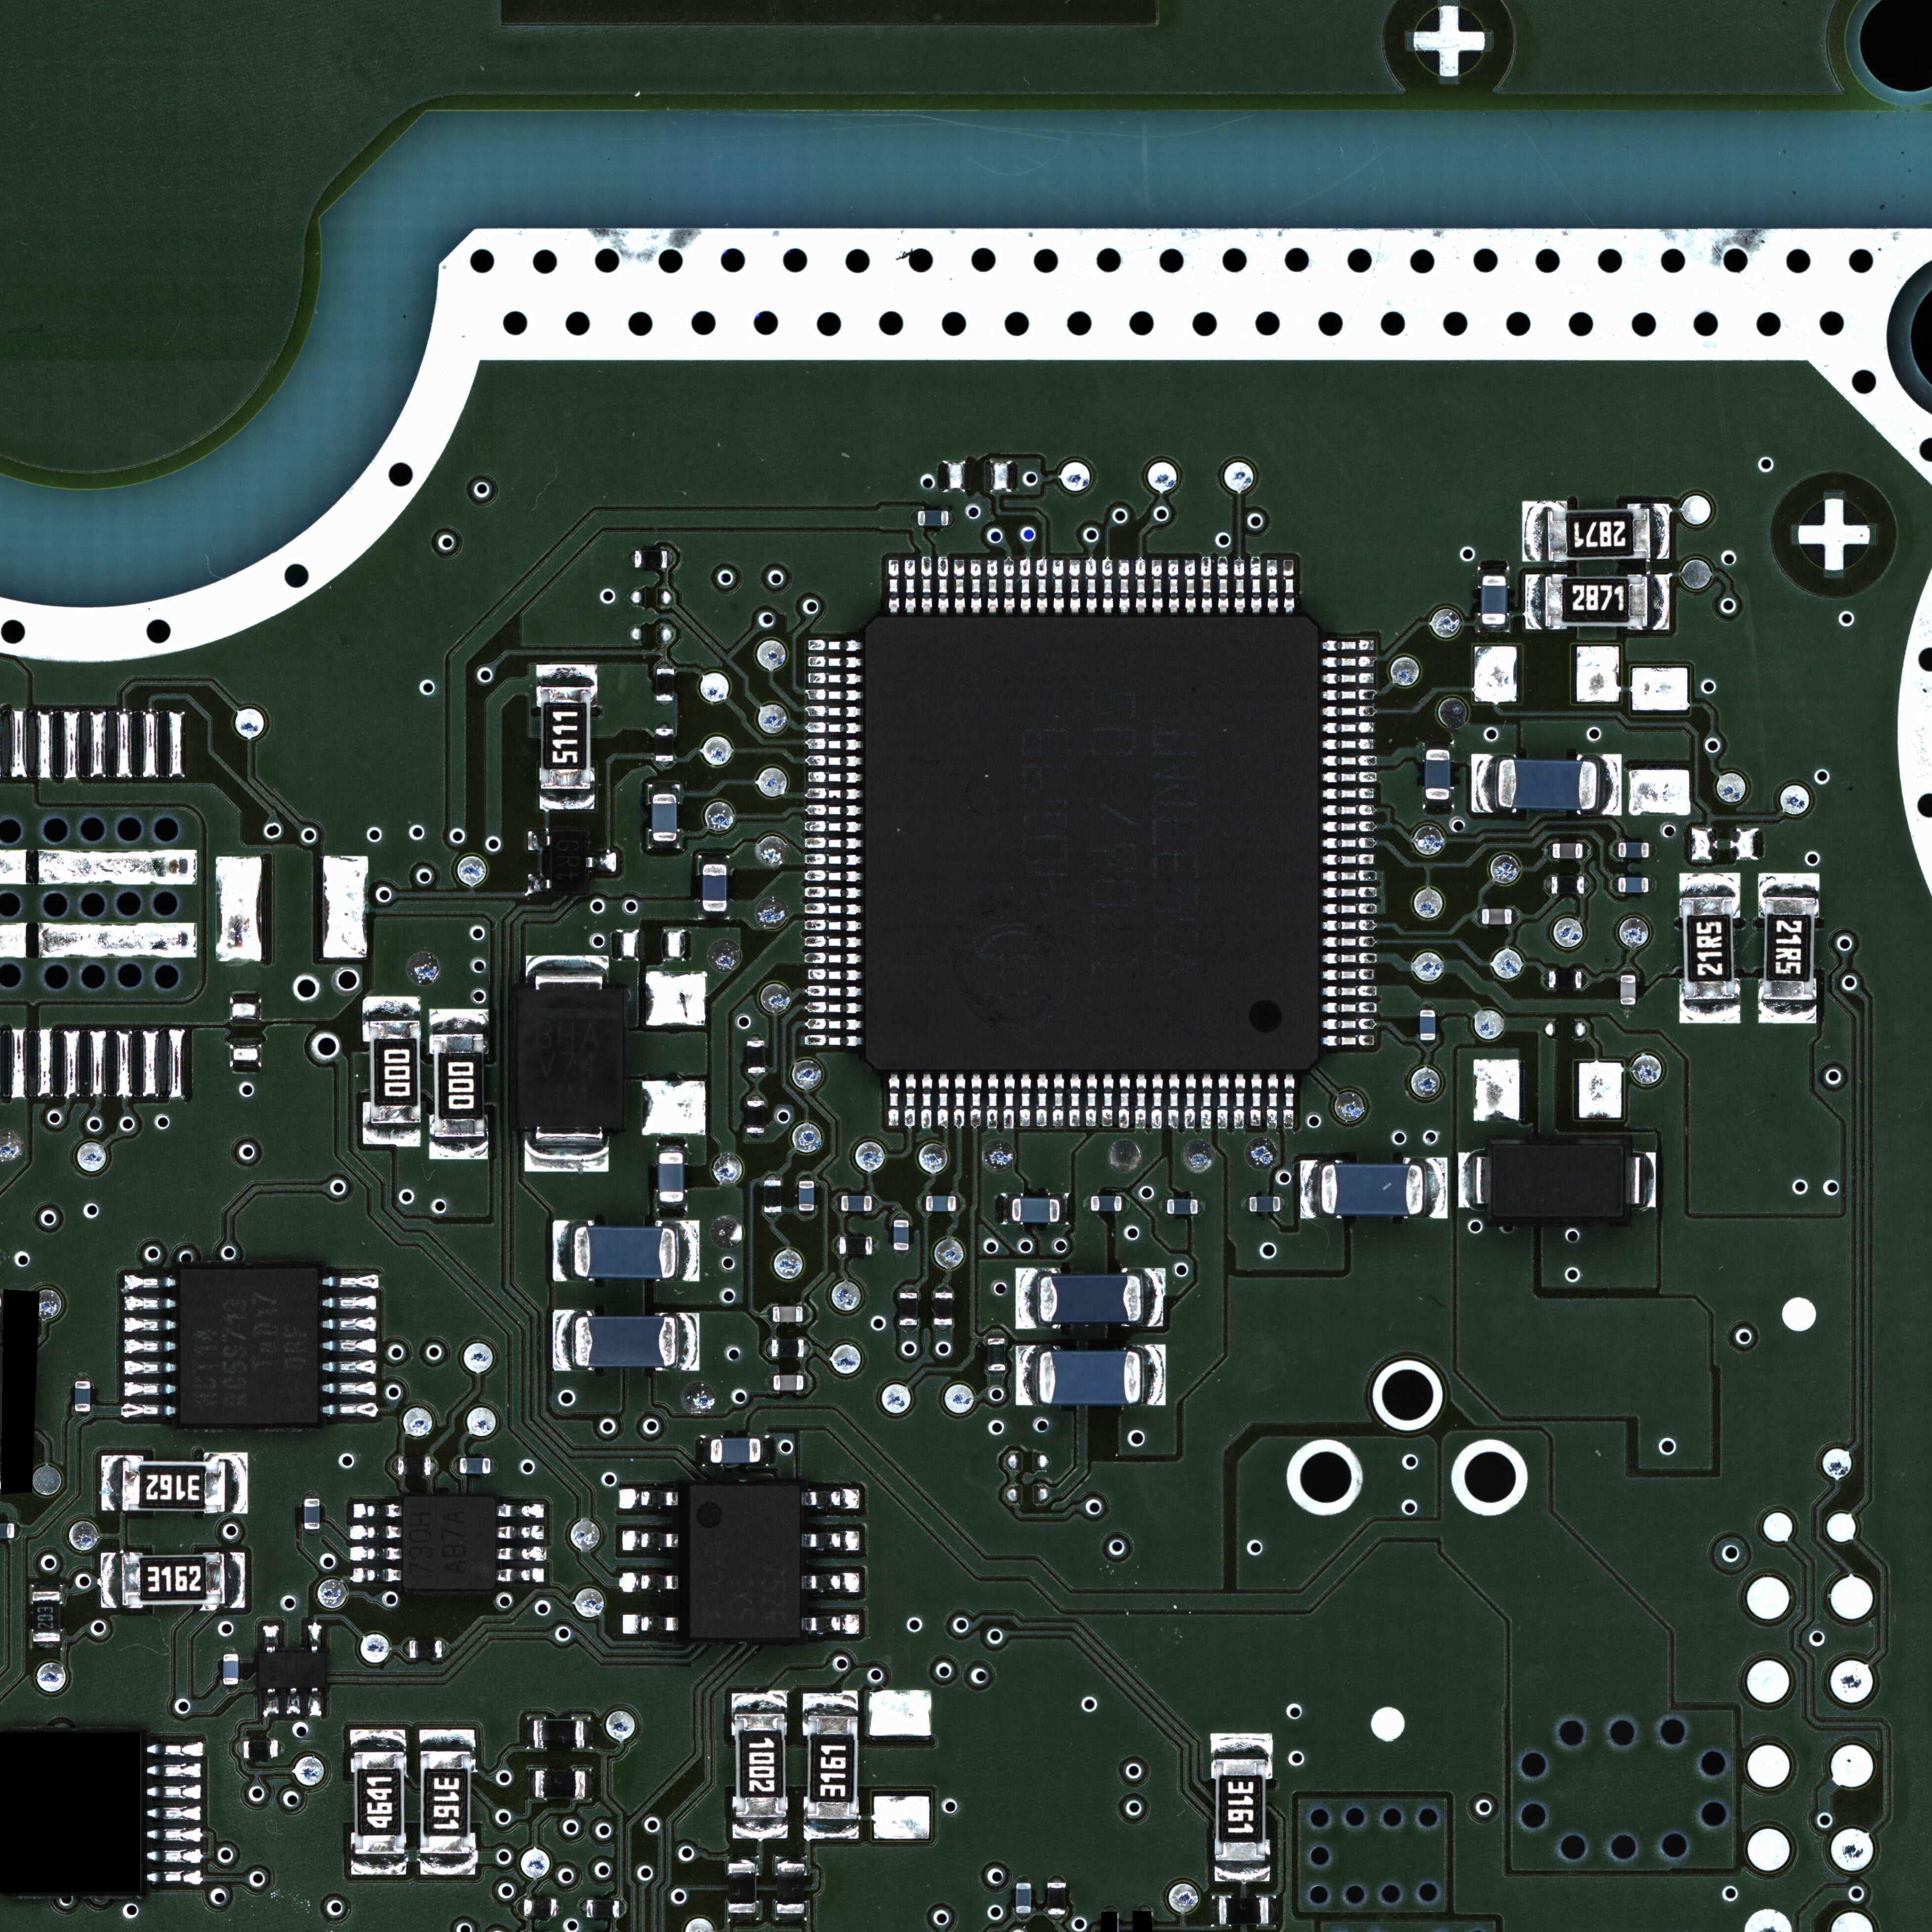Package: (863, 614, 1321, 1073), (178, 1268, 318, 1424), (688, 1485, 801, 1638), (517, 990, 625, 1126), (1491, 1143, 1622, 1218), (402, 1495, 496, 1590), (732, 1715, 786, 1818), (1213, 1759, 1267, 1862), (432, 1034, 486, 1136), (539, 685, 592, 789), (1548, 506, 1651, 559), (1683, 897, 1736, 999), (1764, 897, 1817, 999), (421, 1751, 473, 1854), (368, 1021, 421, 1123), (806, 1716, 858, 1819), (1038, 1351, 1140, 1403), (1545, 576, 1647, 627), (1321, 1163, 1424, 1214), (354, 1752, 405, 1854), (122, 1555, 225, 1605), (574, 1227, 675, 1278), (123, 1460, 224, 1511), (1498, 759, 1597, 810), (576, 1316, 674, 1367), (1039, 1274, 1141, 1322), (258, 1652, 326, 1688), (551, 830, 588, 890), (533, 1720, 583, 1748), (727, 1862, 756, 1913), (1219, 1897, 1268, 1925), (33, 1592, 60, 1642), (535, 1770, 584, 1798), (777, 1863, 804, 1913), (711, 1438, 760, 1463), (1425, 750, 1450, 799), (659, 1153, 683, 1202), (1482, 576, 1505, 624), (702, 864, 726, 911), (1013, 1198, 1059, 1222), (652, 794, 676, 841), (654, 729, 674, 762), (747, 1040, 766, 1073), (397, 1457, 431, 1475), (586, 1900, 620, 1918), (746, 1101, 765, 1133), (1048, 1882, 1066, 1914), (772, 1339, 804, 1357), (1548, 971, 1581, 989), (934, 1293, 952, 1325), (987, 1338, 1005, 1371), (1551, 876, 1584, 894), (410, 1641, 442, 1658), (900, 1293, 918, 1325), (635, 550, 667, 568), (524, 1899, 556, 1916), (839, 1237, 871, 1255), (764, 1180, 781, 1213), (657, 669, 674, 701), (460, 1458, 490, 1474), (1091, 1196, 1122, 1211), (223, 1654, 238, 1685), (1620, 975, 1636, 1005), (1482, 909, 1512, 924), (1420, 1010, 1436, 1040), (1016, 1883, 1031, 1913), (773, 1306, 803, 1322), (841, 1196, 872, 1211), (926, 1196, 956, 1211), (1618, 842, 1649, 857), (1250, 1197, 1280, 1211), (799, 1181, 814, 1211), (1553, 843, 1583, 859), (1167, 1199, 1198, 1214), (894, 1220, 909, 1250), (1618, 877, 1648, 892), (304, 1499, 319, 1529), (773, 1375, 804, 1390), (75, 1381, 90, 1411), (918, 511, 948, 526)
Solder: (525, 1126, 610, 1172), (526, 956, 609, 991), (1623, 1153, 1656, 1207), (1458, 1152, 1490, 1209), (1210, 1733, 1274, 1759), (1140, 1345, 1166, 1405), (1471, 754, 1497, 813), (1679, 999, 1741, 1024), (1597, 753, 1622, 816), (1758, 872, 1820, 897), (1424, 1157, 1448, 1219), (1679, 873, 1740, 897), (224, 1452, 247, 1513), (1757, 1000, 1817, 1023), (1015, 1267, 1038, 1329), (1523, 502, 1546, 561), (430, 1010, 488, 1033), (1141, 1267, 1164, 1327), (536, 664, 597, 685), (802, 1693, 859, 1717), (363, 996, 420, 1019), (1016, 1346, 1037, 1405), (802, 1571, 860, 1593), (620, 1488, 677, 1509), (678, 1221, 699, 1281), (101, 1455, 123, 1511), (350, 1730, 406, 1751), (731, 1693, 788, 1714), (677, 1313, 698, 1370), (619, 1573, 678, 1593), (554, 1310, 574, 1370), (351, 1854, 406, 1875), (419, 1730, 475, 1751), (732, 1818, 788, 1838), (1301, 1160, 1320, 1219), (553, 1221, 573, 1281), (420, 1854, 476, 1875), (1648, 575, 1669, 630), (101, 1553, 122, 1608), (623, 1614, 678, 1634), (430, 1139, 487, 1159), (363, 1125, 420, 1145), (803, 1531, 859, 1551), (539, 789, 595, 809), (803, 1614, 859, 1634), (622, 1531, 678, 1550), (803, 1489, 859, 1508), (803, 1819, 859, 1838), (1215, 1862, 1270, 1882), (226, 1553, 245, 1607), (1526, 575, 1544, 629), (1652, 504, 1669, 558), (351, 1524, 401, 1540), (147, 1763, 203, 1778), (146, 1806, 202, 1820), (352, 1546, 402, 1561), (353, 1502, 401, 1518), (805, 820, 861, 834), (806, 787, 862, 801), (147, 1742, 203, 1756), (146, 1785, 202, 1799), (146, 1849, 202, 1863), (124, 1275, 175, 1290), (806, 804, 861, 818), (323, 1274, 378, 1288), (147, 1828, 203, 1841), (146, 1870, 202, 1884), (323, 1338, 376, 1352), (122, 1403, 175, 1417), (352, 1567, 402, 1583), (322, 1402, 377, 1416), (807, 985, 862, 999), (808, 638, 862, 652), (323, 1381, 377, 1395), (805, 903, 861, 916), (805, 886, 861, 900), (805, 919, 861, 932), (805, 837, 861, 850), (805, 853, 861, 867), (806, 721, 862, 734), (806, 738, 862, 751), (497, 1546, 546, 1561), (1322, 638, 1375, 652), (806, 1034, 862, 1047), (805, 952, 862, 965), (124, 1360, 175, 1375), (124, 1296, 175, 1310), (124, 1382, 175, 1396), (808, 1002, 862, 1015), (808, 655, 862, 669), (806, 705, 862, 718), (1250, 558, 1262, 614), (806, 935, 862, 948), (805, 870, 861, 883), (125, 1317, 175, 1332), (125, 1339, 175, 1353), (808, 672, 862, 685), (323, 1360, 376, 1373), (497, 1525, 544, 1540), (1322, 919, 1375, 932), (1266, 559, 1279, 614), (807, 689, 862, 702), (807, 755, 862, 768), (497, 1503, 544, 1518), (920, 557, 933, 614), (1217, 557, 1229, 614), (1323, 935, 1375, 949), (807, 969, 862, 982), (807, 771, 862, 784), (1233, 558, 1246, 614), (1322, 672, 1374, 685), (1322, 985, 1376, 998), (323, 1317, 377, 1330), (497, 1568, 544, 1583), (8, 1299, 23, 1345), (953, 559, 966, 615), (937, 557, 949, 615), (1323, 903, 1376, 916), (1321, 655, 1374, 668), (1323, 755, 1376, 768), (1322, 1018, 1375, 1031), (1323, 721, 1374, 734), (904, 559, 917, 614), (807, 1018, 862, 1031), (1052, 559, 1064, 614), (1201, 557, 1212, 614), (1322, 968, 1375, 981), (1322, 1034, 1374, 1047), (1322, 688, 1375, 701), (1323, 837, 1375, 850), (1322, 1002, 1376, 1014), (8, 1441, 22, 1489), (1003, 559, 1015, 615), (1019, 559, 1031, 615), (1323, 705, 1374, 718), (1322, 738, 1374, 751), (1323, 787, 1374, 800), (1323, 854, 1374, 867), (1323, 886, 1376, 899), (1323, 772, 1376, 784), (1184, 559, 1196, 614), (1102, 559, 1114, 614), (1135, 559, 1147, 614), (323, 1297, 376, 1309), (1323, 953, 1376, 965), (1085, 559, 1097, 614), (1151, 559, 1163, 614), (1167, 559, 1179, 614), (987, 559, 999, 614), (1069, 559, 1081, 614), (1323, 870, 1375, 883), (1283, 560, 1295, 614), (1323, 821, 1375, 833), (1323, 804, 1374, 817), (1036, 559, 1048, 615), (921, 1074, 933, 1127), (1201, 1074, 1212, 1129), (1185, 1074, 1196, 1129), (1102, 1074, 1114, 1127), (970, 559, 982, 614), (1135, 1074, 1147, 1129), (1004, 1074, 1015, 1129), (1053, 1074, 1064, 1126), (888, 559, 900, 614), (1119, 560, 1130, 614), (1119, 1074, 1130, 1128), (954, 1074, 966, 1128), (905, 1074, 916, 1127), (938, 1074, 949, 1127), (1168, 1074, 1179, 1129), (1036, 1073, 1048, 1126), (1218, 1074, 1229, 1129), (1234, 1074, 1245, 1129), (987, 1074, 998, 1129), (1086, 1074, 1097, 1126), (1069, 1074, 1081, 1126), (970, 1074, 981, 1128), (1283, 1074, 1294, 1127), (1251, 1074, 1261, 1127), (1152, 1074, 1162, 1130), (888, 1074, 899, 1127), (1267, 1074, 1278, 1127), (588, 854, 620, 871), (1020, 1074, 1031, 1126), (526, 831, 551, 850), (263, 1623, 279, 1652), (263, 1688, 279, 1716), (527, 874, 551, 892), (308, 1687, 322, 1716), (286, 1687, 300, 1715), (308, 1622, 321, 1652), (761, 1436, 772, 1466), (700, 1436, 710, 1465), (650, 784, 680, 794), (1210, 1895, 1219, 1926), (1003, 1195, 1012, 1224), (583, 1718, 592, 1748), (525, 1717, 533, 1748), (647, 841, 679, 849), (1269, 1896, 1277, 1926), (1059, 1195, 1067, 1223), (1425, 741, 1453, 749), (699, 856, 729, 864), (698, 912, 729, 919), (776, 1913, 806, 1921), (32, 1584, 62, 1592), (584, 1769, 592, 1799), (528, 1769, 535, 1799), (1425, 800, 1452, 808), (658, 1145, 685, 1153), (774, 1856, 805, 1863), (1479, 625, 1508, 632), (657, 1203, 685, 1210), (728, 1856, 758, 1863), (728, 1913, 758, 1920), (1480, 567, 1507, 575), (32, 1642, 61, 1648), (402, 1641, 410, 1658), (871, 1238, 879, 1255), (1581, 971, 1589, 988), (1103, 1905, 1120, 1913), (764, 1173, 781, 1180), (442, 1641, 449, 1658), (766, 1373, 773, 1391), (900, 1286, 917, 1293), (747, 1093, 764, 1100), (747, 1133, 765, 1140), (1420, 1002, 1435, 1010), (893, 1250, 909, 1258), (1083, 1196, 1091, 1211), (1619, 1005, 1637, 1012), (304, 1492, 320, 1499), (1620, 968, 1637, 975), (1048, 1875, 1065, 1882), (667, 550, 674, 568), (654, 761, 674, 767), (654, 723, 674, 728), (223, 1646, 238, 1654), (893, 1212, 909, 1220), (1122, 1196, 1129, 1211), (580, 1899, 586, 1916), (619, 1901, 626, 1917), (748, 1033, 764, 1040), (900, 1325, 918, 1332), (75, 1374, 90, 1381), (1016, 1876, 1031, 1883), (490, 1459, 498, 1473), (223, 1685, 238, 1691), (798, 1210, 814, 1217), (1243, 1196, 1250, 1211), (1420, 1040, 1436, 1047), (948, 511, 955, 526), (911, 510, 918, 526), (834, 1196, 841, 1211), (956, 1196, 963, 1211), (1280, 1197, 1287, 1211), (988, 1370, 1006, 1376), (556, 1899, 562, 1916), (1015, 1913, 1030, 1920), (804, 1341, 811, 1356), (765, 1340, 772, 1356), (803, 1306, 810, 1322), (936, 1286, 952, 1293), (1648, 877, 1655, 893), (748, 1073, 765, 1079), (872, 1197, 879, 1211), (453, 1459, 460, 1473), (1197, 1198, 1203, 1213), (657, 701, 673, 707), (657, 662, 674, 668), (799, 1174, 814, 1181), (1583, 844, 1589, 859), (304, 1529, 319, 1536), (987, 1333, 1005, 1338), (935, 1325, 952, 1331), (75, 1411, 91, 1417), (1512, 909, 1518, 924), (1476, 909, 1482, 924), (1545, 877, 1551, 893), (1585, 877, 1591, 893), (1547, 843, 1553, 858), (1612, 842, 1618, 858), (629, 550, 635, 566), (1612, 877, 1618, 893), (1049, 1915, 1065, 1920), (1649, 842, 1655, 857), (1137, 1905, 1152, 1911), (391, 1459, 397, 1474), (804, 1374, 809, 1390), (1543, 972, 1548, 988), (518, 1899, 523, 1915), (767, 1307, 773, 1321), (431, 1459, 436, 1473), (834, 1239, 839, 1253), (765, 1213, 780, 1218), (1163, 1200, 1167, 1214), (922, 1196, 925, 1210)
